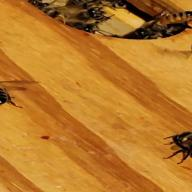Bee: (134, 2, 192, 40)
